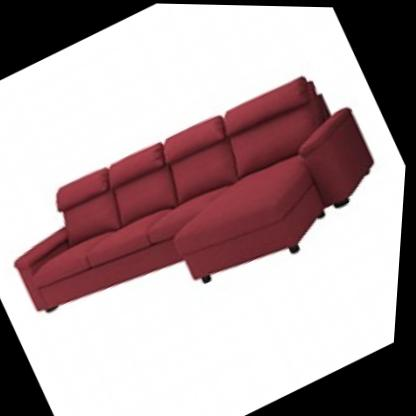Sofa: (0, 38, 414, 389)
